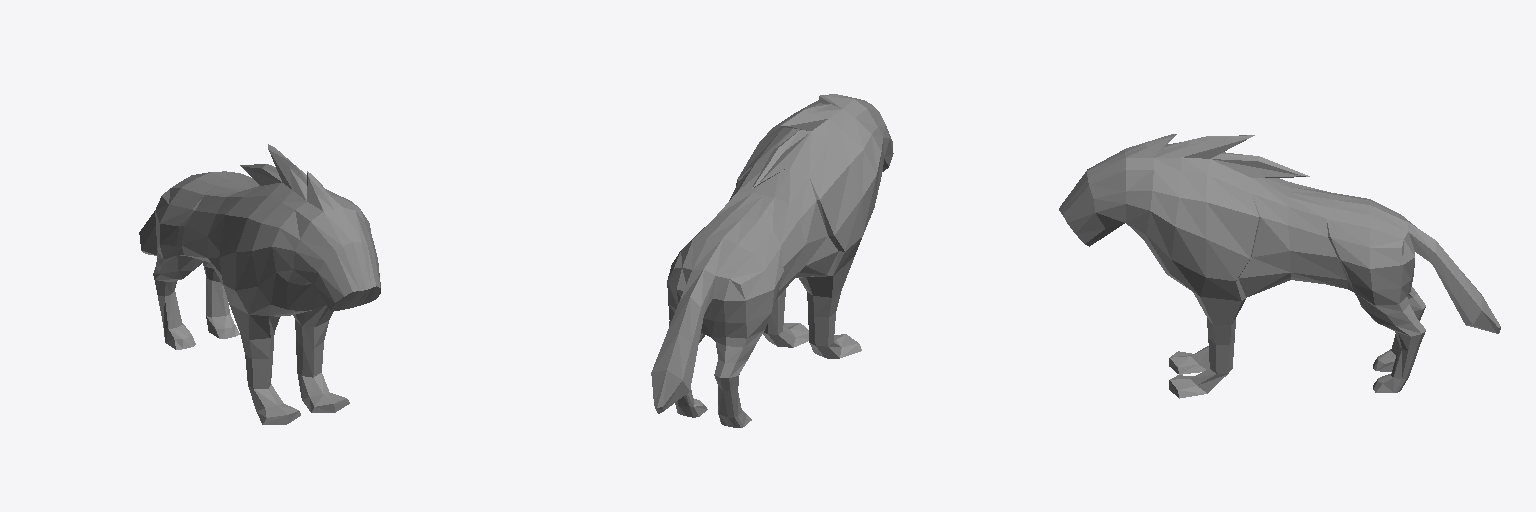
File: Wolf_Base.obj
3 renders of one model, left to right at view 1: azimuth 30°, elevation 25°; view 2: azimuth 150°, elevation 25°; view 3: azimuth 270°, elevation 25°, orthographic.
Visible parts, largest first — view 1: Base_Mesh; view 2: Base_Mesh; view 3: Base_Mesh.
Boxes of the visible parts, x1,y1,x2,y2 form: Base_Mesh: [139, 144, 380, 424]; Base_Mesh: [651, 94, 893, 427]; Base_Mesh: [1059, 134, 1500, 398].
Bounding box in the file's own units: 25.39 × 51.45 × 84.47.